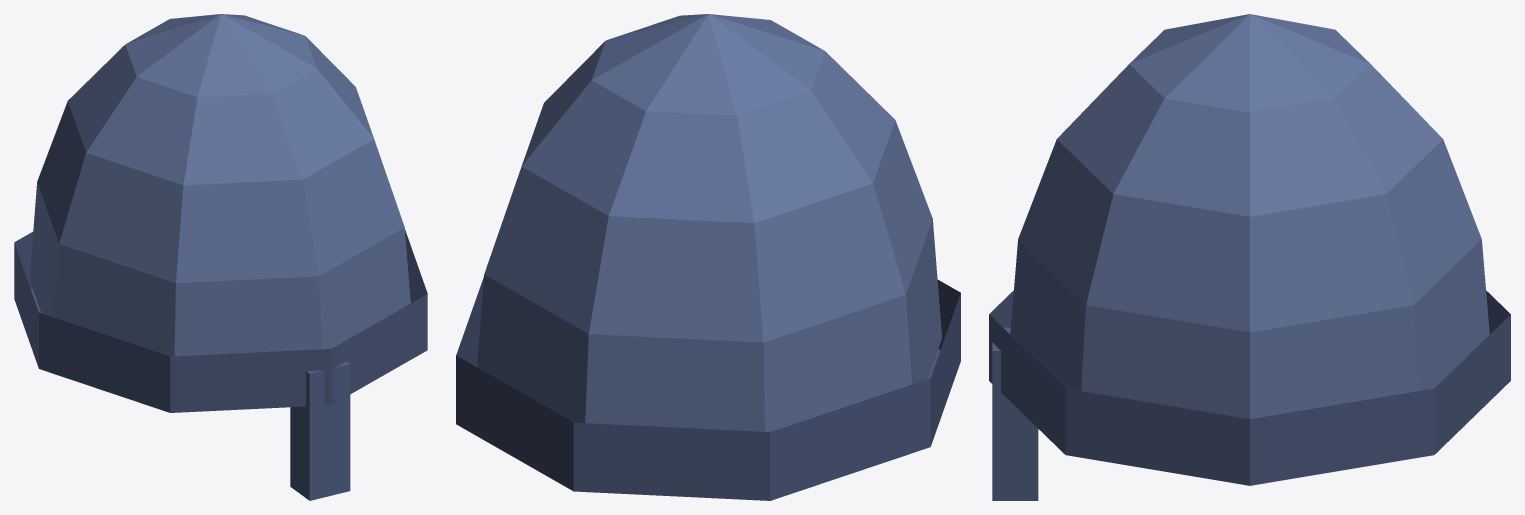
The model's file is helm_mithril.glb.
3 views of the same model, side by side, from view 1: azimuth 30°, elevation 25°; view 2: azimuth 150°, elevation 25°; view 3: azimuth 270°, elevation 25° (orthographic). The views are drawn at different scales.
Parts seen in each view (by area): view 1: helm_mithril; view 2: helm_mithril; view 3: helm_mithril.
Boxes of the visible parts, left/top/right/bottom form: helm_mithril: left=14, top=14, right=427, bottom=500; helm_mithril: left=456, top=14, right=960, bottom=500; helm_mithril: left=989, top=14, right=1510, bottom=500.
Bounding box in the file's own units: 0.27 × 0.285 × 0.2835.
1 material, 1 textured.
